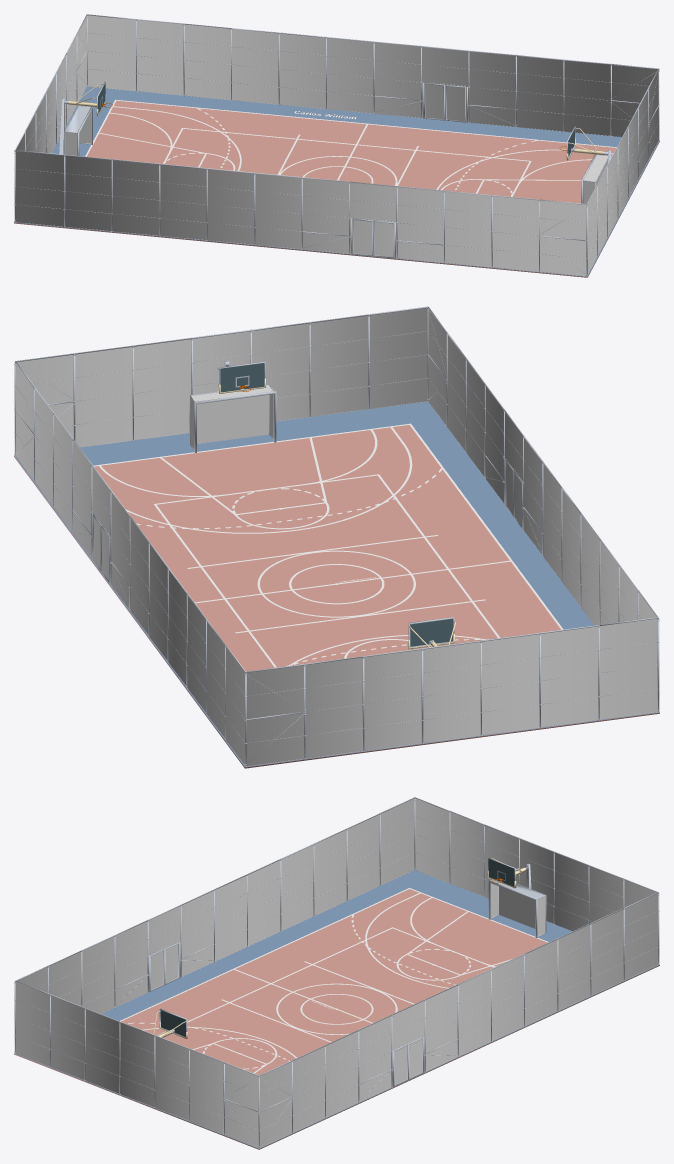
Rendered from basketball.gltf.
3 renders of one model, top to bottom at view 1: azimuth 30°, elevation 25°; view 2: azimuth 150°, elevation 25°; view 3: azimuth 270°, elevation 25°, orthographic. The views are drawn at different scales.
Parts seen in each view (by area): view 1: Obj3d66-9489959-358-341, Obj3d66-9489959-354-768, Obj3d66-9489959-355-117, Obj3d66-9489959-357-554, Obj3d66-9489959-350-744, Obj3d66-9489959-356-299, Obj3d66-9489959-353-294, Obj3d66-9489959-351-909, Obj3d66-9489959-352-830, Obj3d66-9489959-359-202; view 2: Obj3d66-9489959-358-341, Obj3d66-9489959-355-117, Obj3d66-9489959-354-768, Obj3d66-9489959-357-554, Obj3d66-9489959-350-744, Obj3d66-9489959-356-299, Obj3d66-9489959-353-294, Obj3d66-9489959-352-830, Obj3d66-9489959-360-24, Obj3d66-9489959-351-909; view 3: Obj3d66-9489959-358-341, Obj3d66-9489959-355-117, Obj3d66-9489959-357-554, Obj3d66-9489959-354-768, Obj3d66-9489959-356-299, Obj3d66-9489959-350-744, Obj3d66-9489959-353-294, Obj3d66-9489959-352-830, Obj3d66-9489959-351-909, Obj3d66-9489959-360-24.
Part boxes in pixels (<box>): Obj3d66-9489959-358-341: <box>15,15,658,276</box>; Obj3d66-9489959-354-768: <box>99,100,616,179</box>; Obj3d66-9489959-355-117: <box>174,128,529,193</box>; Obj3d66-9489959-357-554: <box>14,14,659,276</box>; Obj3d66-9489959-350-744: <box>16,86,659,276</box>; Obj3d66-9489959-356-299: <box>14,133,659,277</box>; Obj3d66-9489959-353-294: <box>85,99,616,196</box>; Obj3d66-9489959-351-909: <box>58,81,611,203</box>; Obj3d66-9489959-352-830: <box>65,111,607,203</box>; Obj3d66-9489959-359-202: <box>68,83,604,160</box>; Obj3d66-9489959-358-341: <box>15,308,657,766</box>; Obj3d66-9489959-355-117: <box>157,475,497,667</box>; Obj3d66-9489959-354-768: <box>94,425,560,671</box>; Obj3d66-9489959-357-554: <box>14,306,659,767</box>; Obj3d66-9489959-350-744: <box>15,402,657,766</box>; Obj3d66-9489959-356-299: <box>14,438,659,768</box>; Obj3d66-9489959-353-294: <box>93,423,563,667</box>; Obj3d66-9489959-352-830: <box>190,385,273,449</box>; Obj3d66-9489959-360-24: <box>220,363,452,646</box>; Obj3d66-9489959-351-909: <box>189,361,455,647</box>; Obj3d66-9489959-358-341: <box>15,798,658,1147</box>; Obj3d66-9489959-355-117: <box>163,928,493,1075</box>; Obj3d66-9489959-357-554: <box>14,797,659,1148</box>; Obj3d66-9489959-354-768: <box>121,889,506,1035</box>; Obj3d66-9489959-356-299: <box>14,912,659,1149</box>; Obj3d66-9489959-350-744: <box>15,870,658,1148</box>; Obj3d66-9489959-353-294: <box>119,888,548,1073</box>; Obj3d66-9489959-352-830: <box>490,883,545,936</box>; Obj3d66-9489959-351-909: <box>157,858,546,1037</box>; Obj3d66-9489959-360-24: <box>161,859,514,1036</box>.
Bounding box in the file's own units: 0.6645 × 0.0818 × 0.6492.
